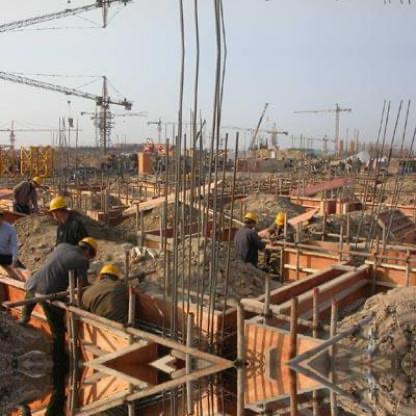Safety Helmet: (94, 258, 134, 296), (73, 231, 105, 265), (44, 196, 74, 224), (268, 208, 297, 236), (236, 206, 259, 238), (25, 167, 50, 187)
